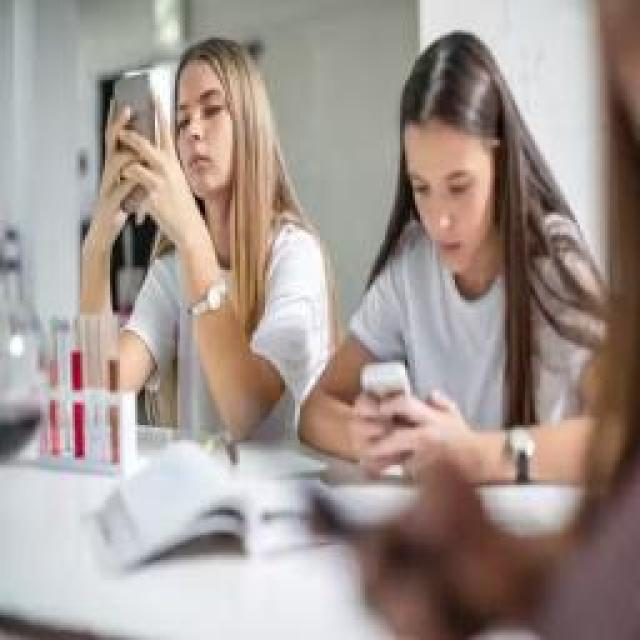phone: (298, 28, 630, 480), (78, 35, 318, 443)
